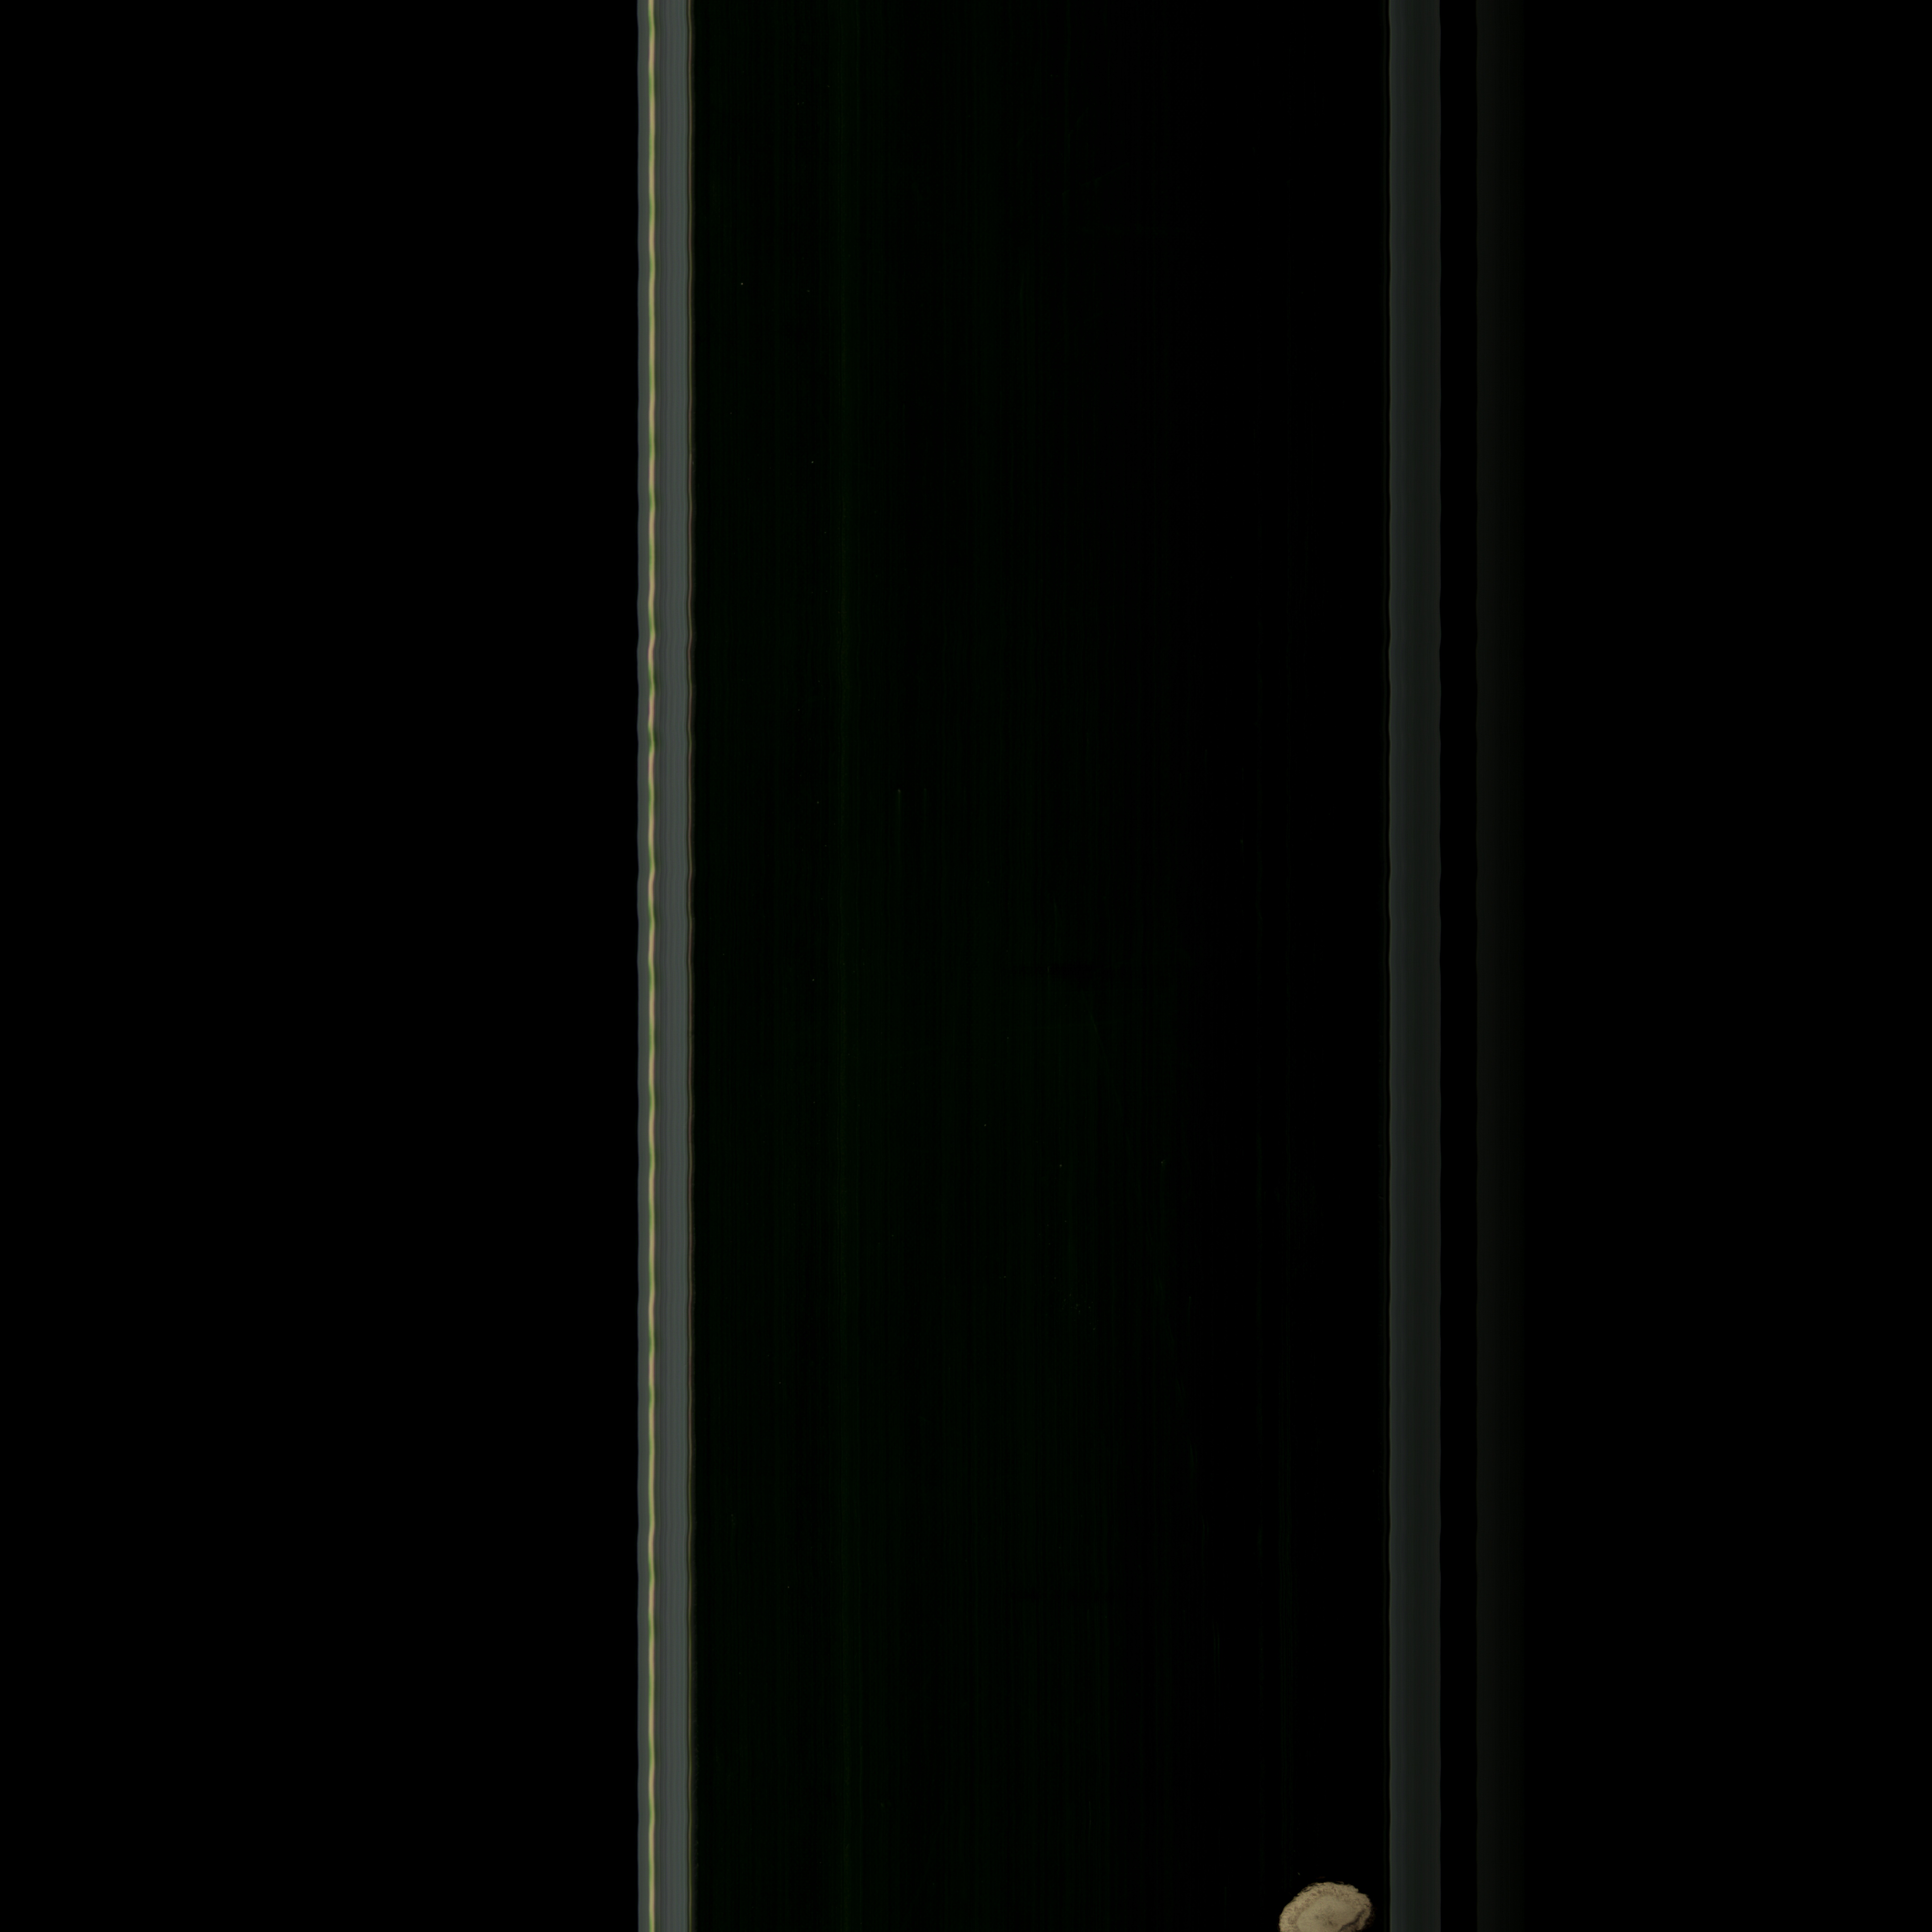moldy: (1260, 1874, 1376, 1932)
